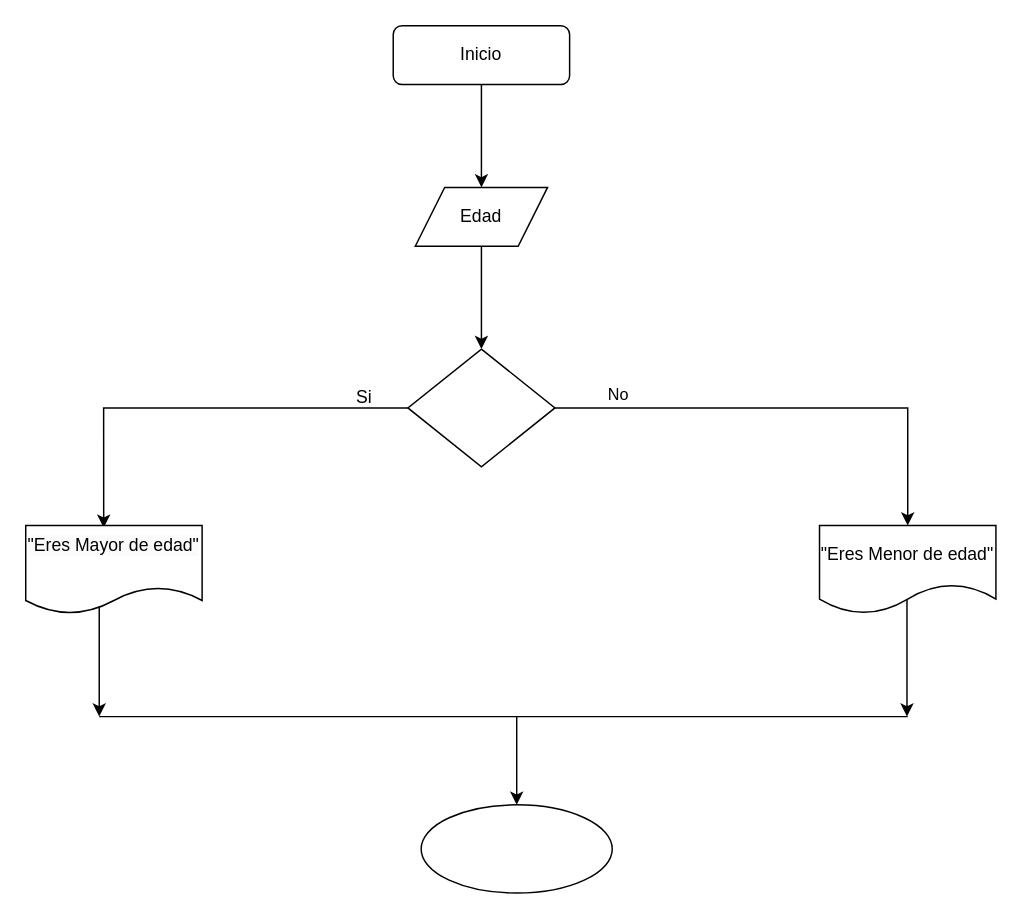
Image size: 1022x919. Some labels were removed from this diagram. The centre of each missing label's shape, as x and y in pixels:
"Final" belongs at point (516, 848).
"if edad > 18" belongs at point (480, 407).
